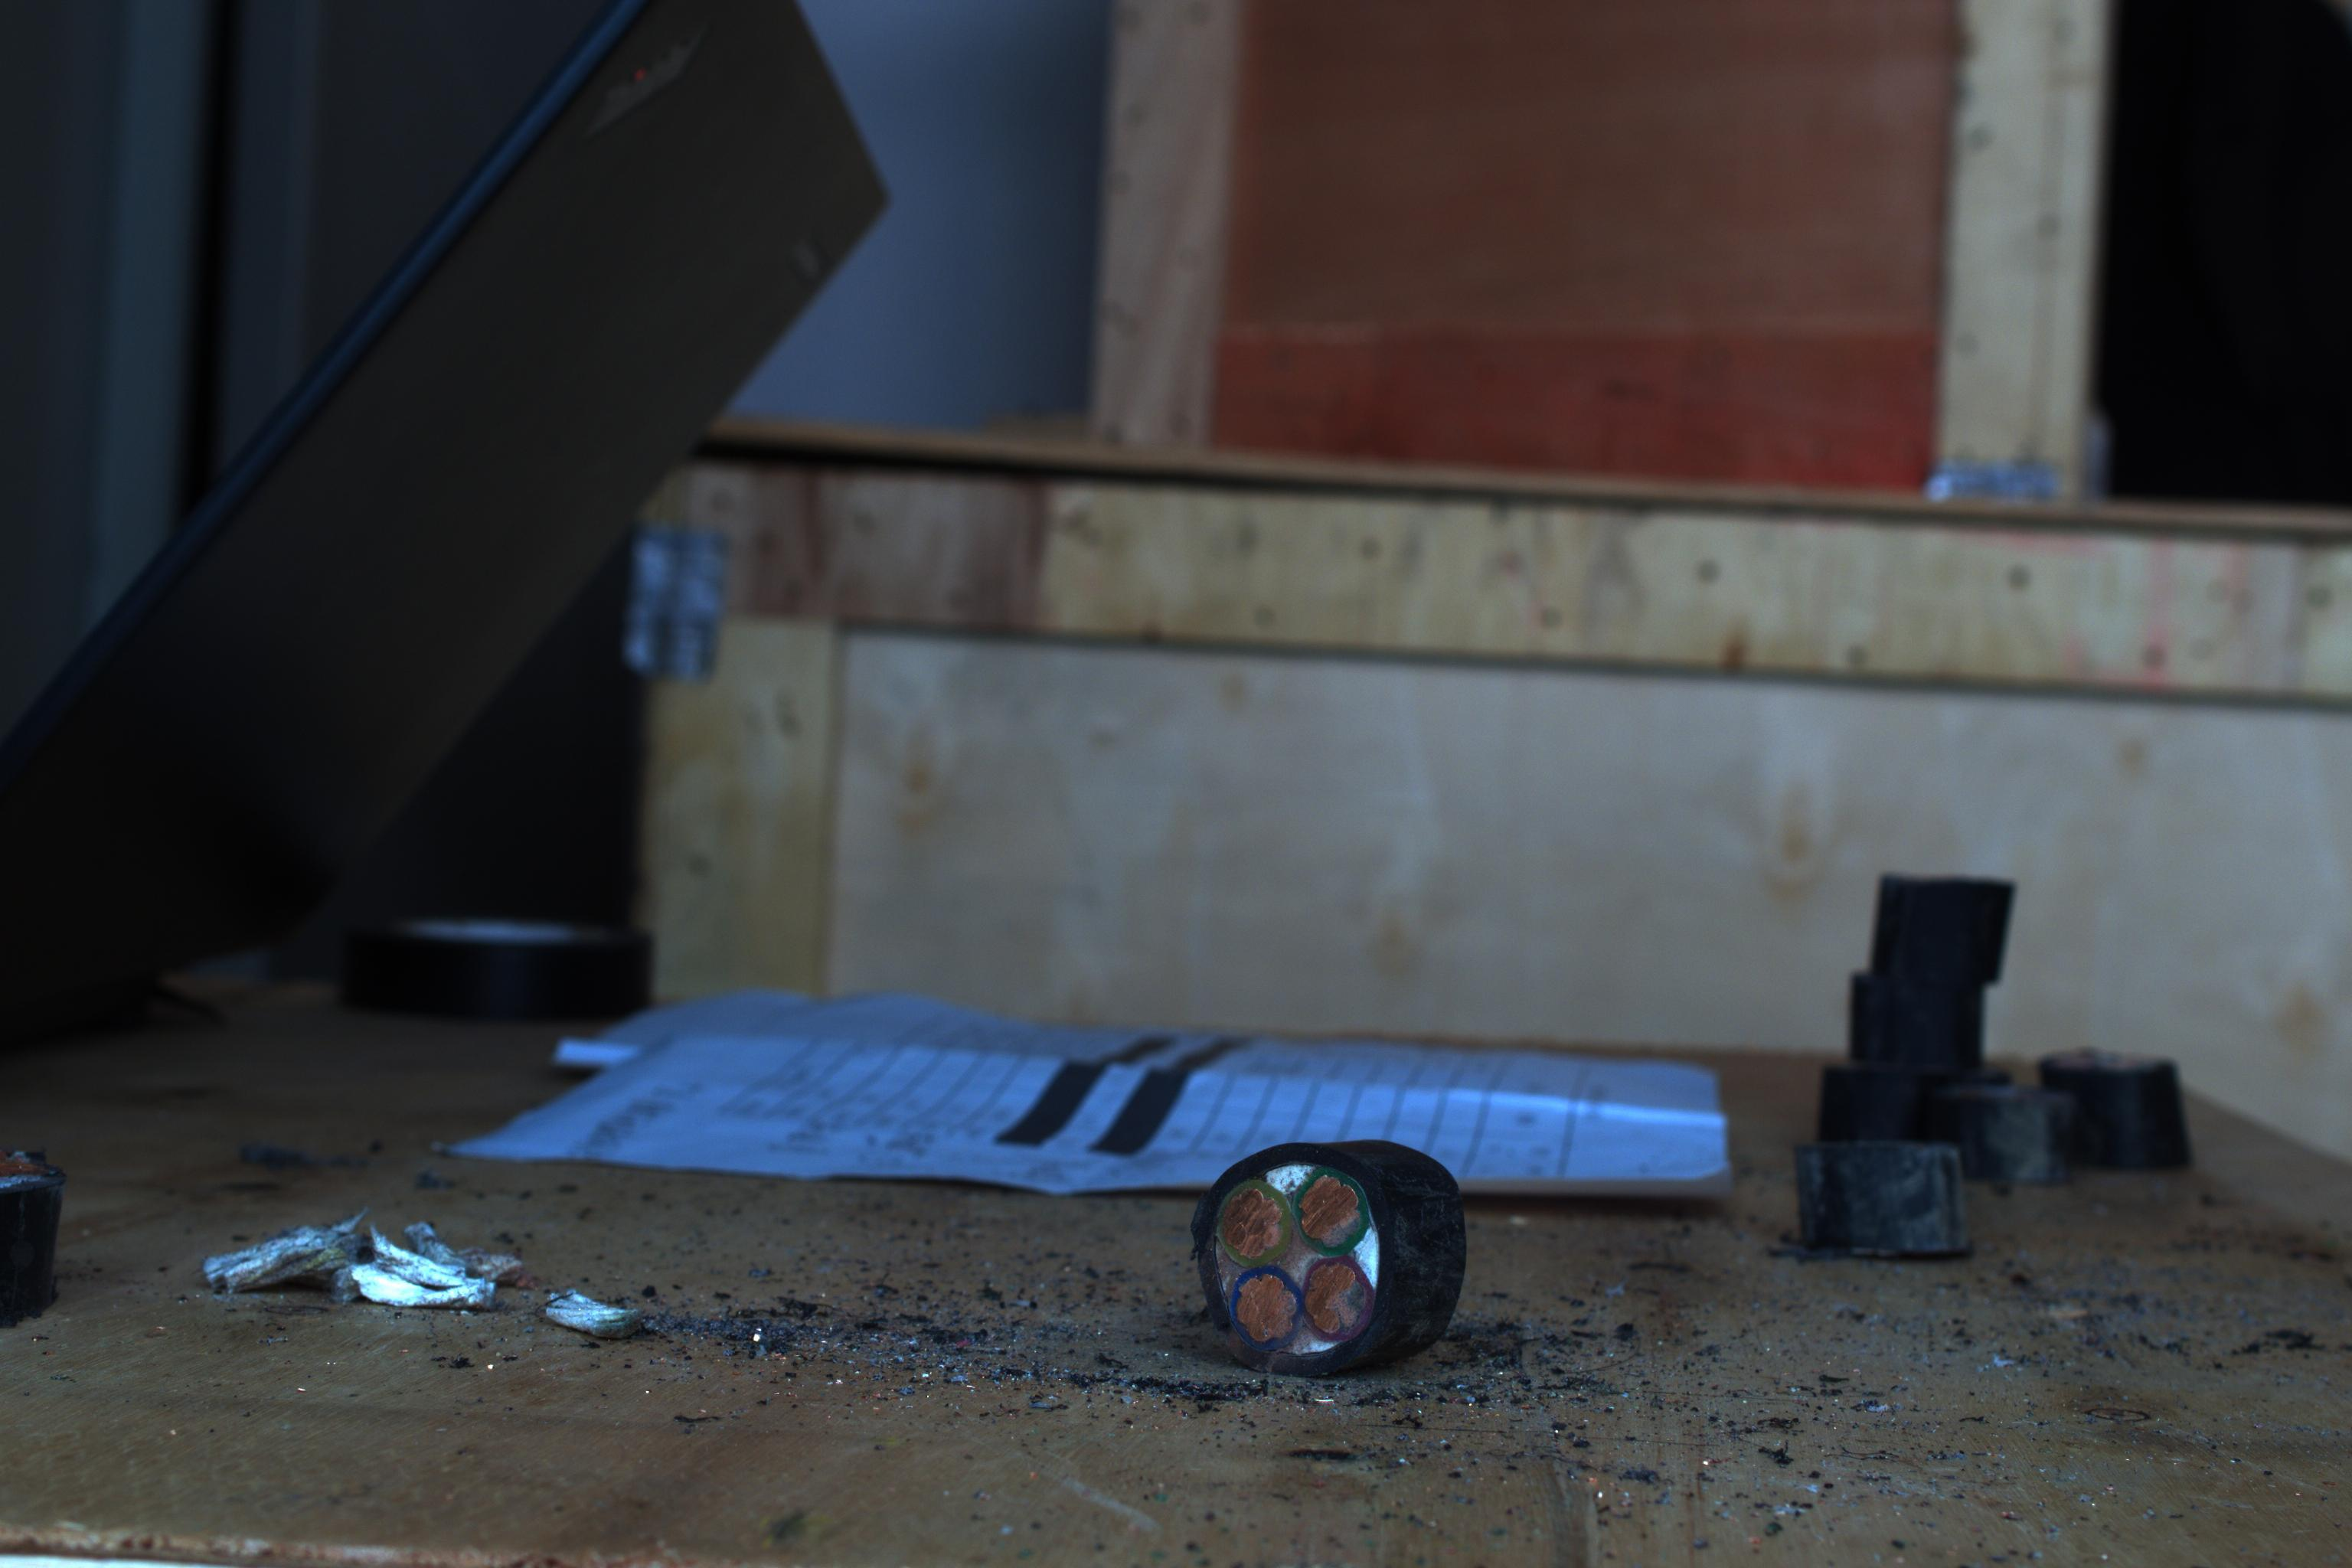YJV_0.6_1kV_4x35: (1199, 1127, 1400, 1354)
